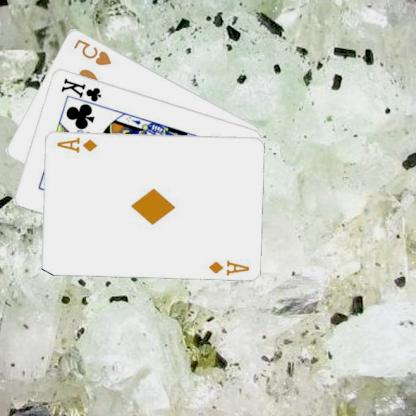5H: (73, 35, 114, 67)
AD: (56, 134, 100, 154), (208, 256, 252, 275)
KC: (60, 74, 106, 108)
